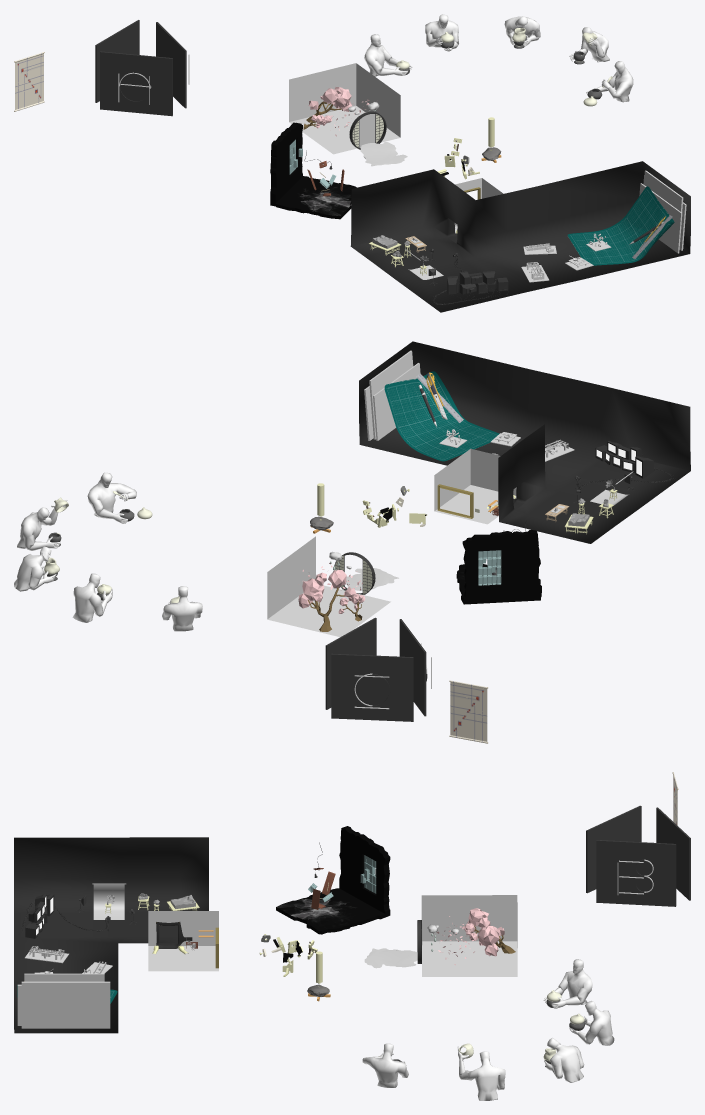
File: stage-test-20.glb
3 views of the same model, one above another, from view 1: azimuth 30°, elevation 25°; view 2: azimuth 150°, elevation 25°; view 3: azimuth 270°, elevation 25° (orthographic). The views are drawn at different scales.
Parts seen in each view (by area): view 1: monitor-screen-world, digital-world, typo-A-backwall.001, ambience-of-light-wall, comforting-dinner-baked-johns.003, cutting-mat, three-d-app-modeling-utils, typo-graphic-textile.001, analog-tv-shells, typo-B-backwall.001, typo-C-backwall.001, comforting-dinner-baked-cutlery.003 (+6 smaller); view 2: monitor-screen-world, comforting-dinner-baked-johns.003, typo-C-backwall.001, digital-world, ambience-of-light-wall, cutting-mat, room, three-d-app-modeling-utils, typo-graphic-textile.001, typo-B-backwall.001, typo-A-backwall.001, intervention-in-our-disconnection-models (+5 smaller); view 3: monitor-screen-world, digital-world, comforting-dinner-baked-johns.003, ambience-of-light-wall, three-d-app-modeling-utils, typo-B-backwall.001, room, typo-A-backwall.001, typo-C-backwall.001, intervention-in-our-disconnection-models, photo-screen.001, analog-tv-shells (+4 smaller).
Part boxes in pixels (<box>): monitor-screen-world: <box>350,161,690,312</box>; digital-world: <box>289,63,400,154</box>; typo-A-backwall.001: <box>100,51,172,116</box>; ambience-of-light-wall: <box>270,122,356,219</box>; comforting-dinner-baked-johns.003: <box>364,14,633,102</box>; cutting-mat: <box>567,186,674,265</box>; three-d-app-modeling-utils: <box>629,170,686,259</box>; typo-graphic-textile.001: <box>15,52,44,111</box>; analog-tv-shells: <box>431,256,508,304</box>; typo-B-backwall.001: <box>156,22,186,108</box>; typo-C-backwall.001: <box>95,20,139,102</box>; comforting-dinner-baked-cutlery.003: <box>396,28,612,106</box>; monitor-screen-world: <box>359,341,690,543</box>; comforting-dinner-baked-johns.003: <box>14,472,202,631</box>; typo-C-backwall.001: <box>331,653,413,721</box>; digital-world: <box>267,536,390,637</box>; ambience-of-light-wall: <box>456,530,541,604</box>; cutting-mat: <box>384,371,499,461</box>; room: <box>434,448,516,524</box>; three-d-app-modeling-utils: <box>364,350,463,440</box>; typo-graphic-textile.001: <box>450,680,487,743</box>; typo-B-backwall.001: <box>325,617,376,709</box>; typo-A-backwall.001: <box>399,619,426,716</box>; intervention-in-our-disconnection-models: <box>310,483,427,533</box>; monitor-screen-world: <box>14,837,208,1033</box>; digital-world: <box>421,895,517,976</box>; comforting-dinner-baked-johns.003: <box>362,959,614,1100</box>; ambience-of-light-wall: <box>276,826,390,934</box>; three-d-app-modeling-utils: <box>17,973,110,1028</box>; typo-B-backwall.001: <box>596,840,676,906</box>; room: <box>148,911,218,971</box>; typo-A-backwall.001: <box>586,805,641,893</box>; typo-C-backwall.001: <box>656,807,690,900</box>; intervention-in-our-disconnection-models: <box>259,934,330,1001</box>; photo-screen.001: <box>93,883,124,919</box>; analog-tv-shells: <box>19,894,106,938</box>.
Bounding box in the file's own units: 909 × 109 × 972.
Materials: 63 (4 with a texture image).
